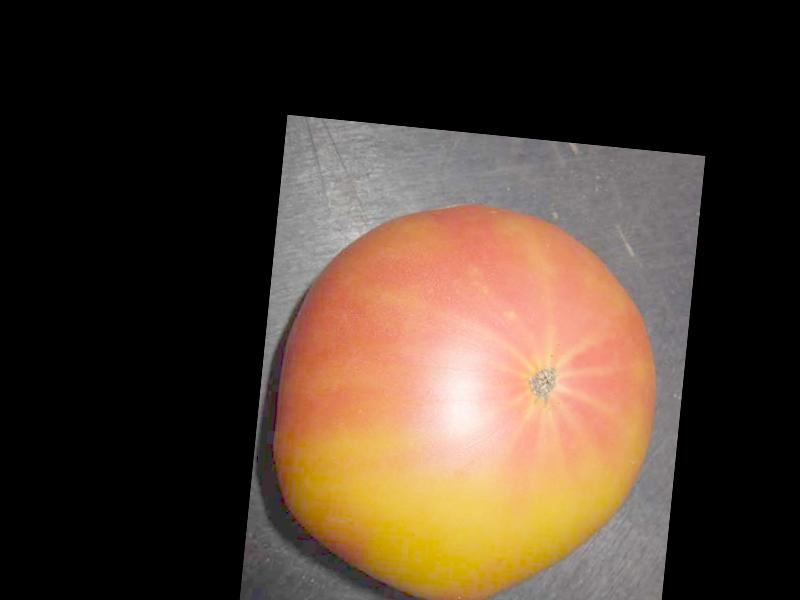Tomato: (257, 187, 672, 600)
